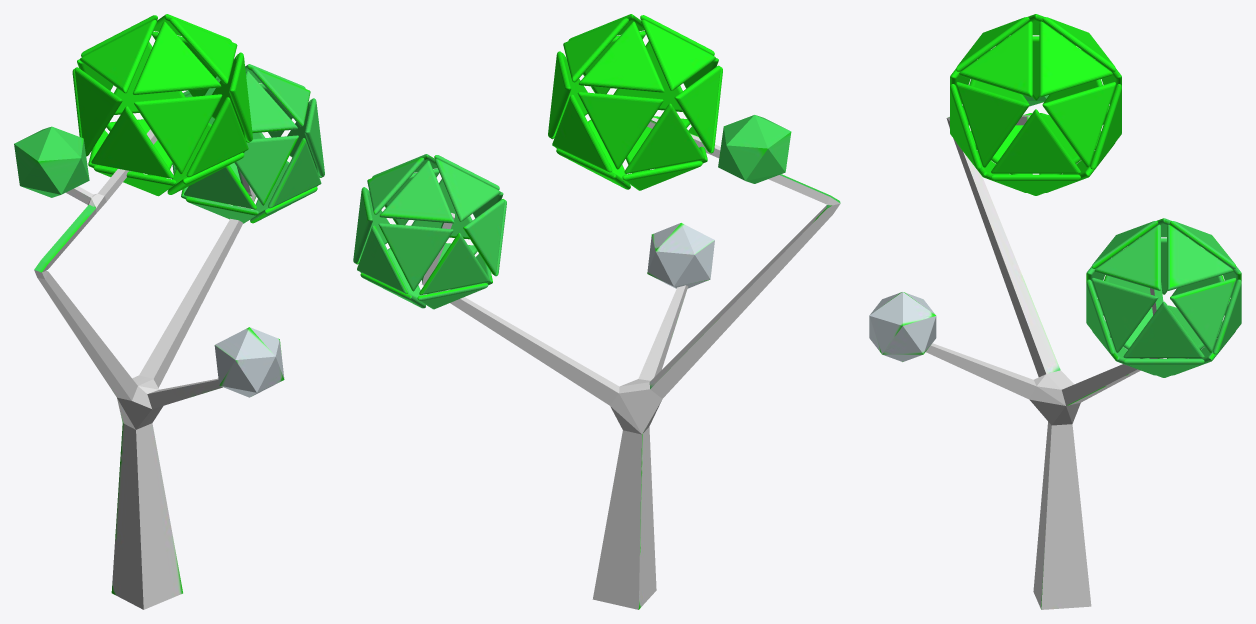
File: GTree.obj
3 views of the same model, side by side, from view 1: azimuth 30°, elevation 25°; view 2: azimuth 150°, elevation 25°; view 3: azimuth 270°, elevation 25° (orthographic). The views are drawn at different scales.
Visible parts, largest first — view 1: Icosphere.014, Cube, Icosphere.010, Icosphere.007, Icosphere.011; view 2: Icosphere.014, Cube, Icosphere.010, Icosphere.007, Icosphere.011; view 3: Icosphere.014, Icosphere.010, Cube, Icosphere.011.
Boxes of the visible parts, bbox=[...] form: Icosphere.014: bbox=[72, 14, 252, 196]; Cube: bbox=[34, 129, 256, 609]; Icosphere.010: bbox=[172, 64, 324, 223]; Icosphere.007: bbox=[14, 126, 89, 197]; Icosphere.011: bbox=[214, 327, 284, 397]; Icosphere.014: bbox=[548, 14, 722, 190]; Cube: bbox=[422, 117, 840, 609]; Icosphere.010: bbox=[353, 154, 506, 309]; Icosphere.007: bbox=[718, 115, 791, 183]; Icosphere.011: bbox=[647, 223, 714, 288]; Icosphere.014: bbox=[950, 14, 1121, 195]; Icosphere.010: bbox=[1086, 218, 1241, 377]; Cube: bbox=[926, 115, 1163, 609]; Icosphere.011: bbox=[869, 292, 936, 361].
Bounding box in the file's own units: 2.02 × 2.93 × 1.7.
Materials: 1 (1 with a texture image).
